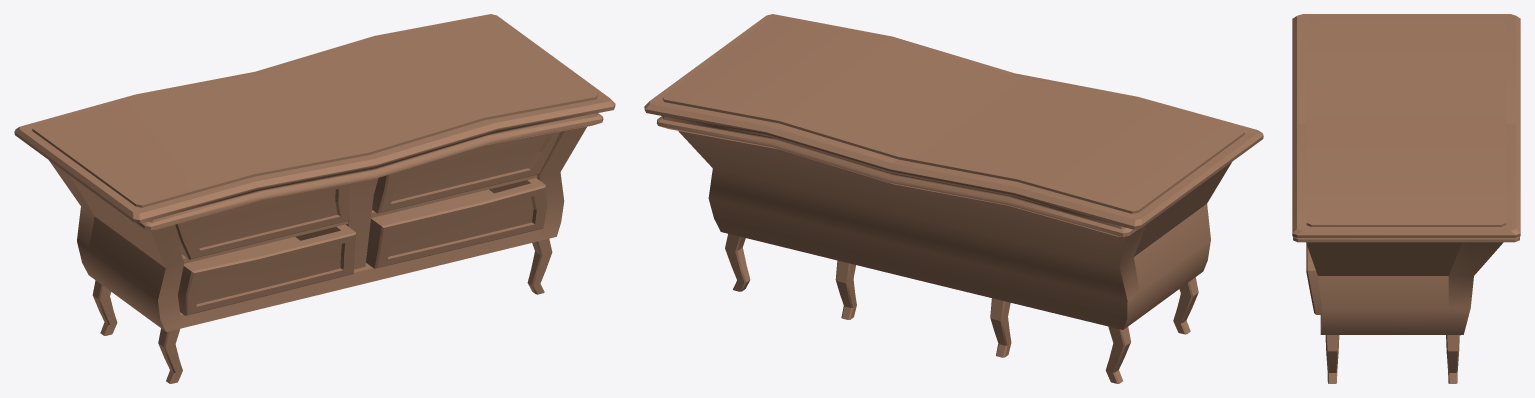
The model's file is Commode_02_taille.fbx.
3 views of the same model, side by side, from view 1: azimuth 30°, elevation 25°; view 2: azimuth 150°, elevation 25°; view 3: azimuth 270°, elevation 25° (orthographic). The views are drawn at different scales.
Parts seen in each view (by area): view 1: polySurface428; view 2: polySurface428; view 3: polySurface428.
Part boxes in pixels (box(x1,y1,x2,y2)): polySurface428: box(14, 14, 615, 383); polySurface428: box(644, 14, 1263, 383); polySurface428: box(1292, 14, 1520, 383).
Size of the model in its own units: 2.73 by 1.09 by 1.22.
